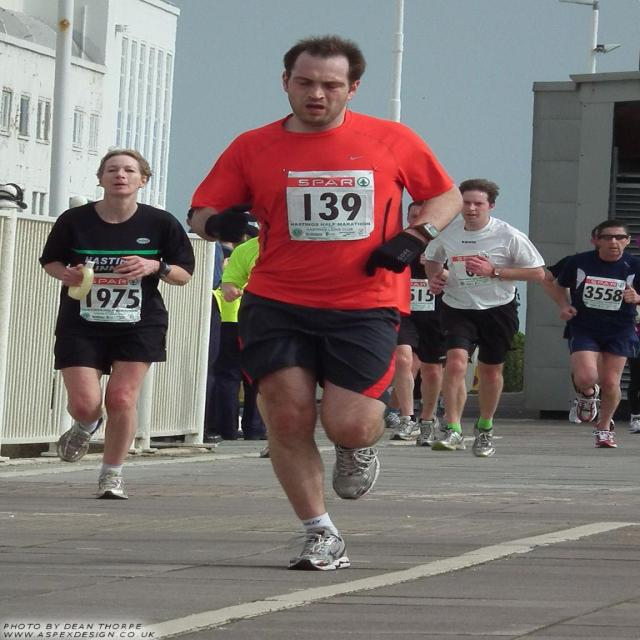Bib: (293, 193, 372, 224), (82, 286, 143, 314), (584, 283, 628, 303)
